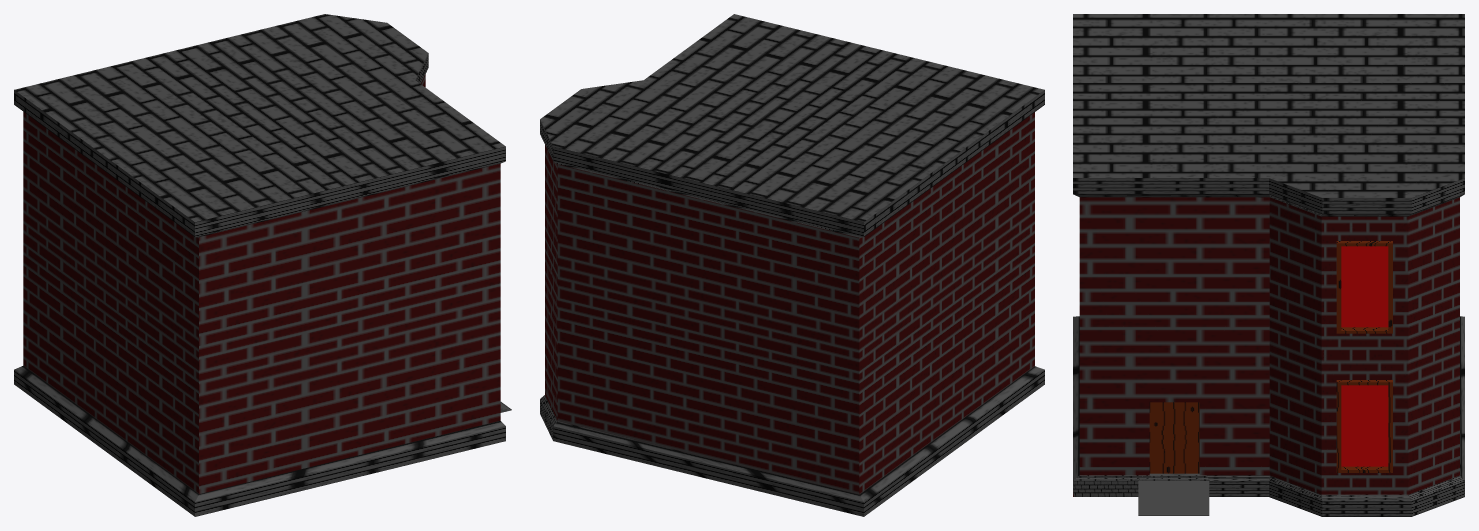
The model's file is LondonBuilding.fbx.
3 renders of one model, left to right at view 1: azimuth 30°, elevation 25°; view 2: azimuth 150°, elevation 25°; view 3: azimuth 270°, elevation 25°, orthographic. The views are drawn at different scales.
Visible parts, largest first — view 1: Cube; view 2: Cube; view 3: Cube.
Boxes of the visible parts, <box> form: Cube: <box>14,14,511,516</box>; Cube: <box>540,14,1044,516</box>; Cube: <box>1073,14,1464,516</box>.
Size of the model in its own units: 723 by 582 by 648.
